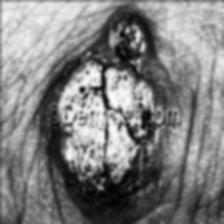Toxin: (54, 9, 150, 104), (58, 126, 150, 194)
